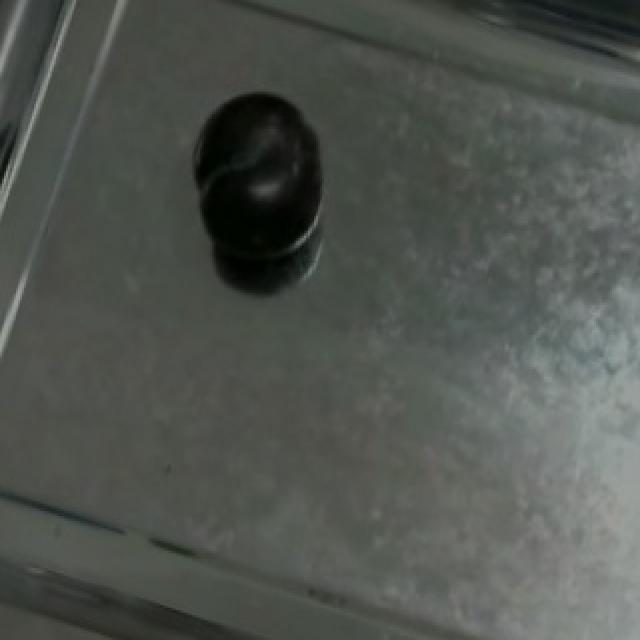Fruit: (180, 70, 334, 280)
